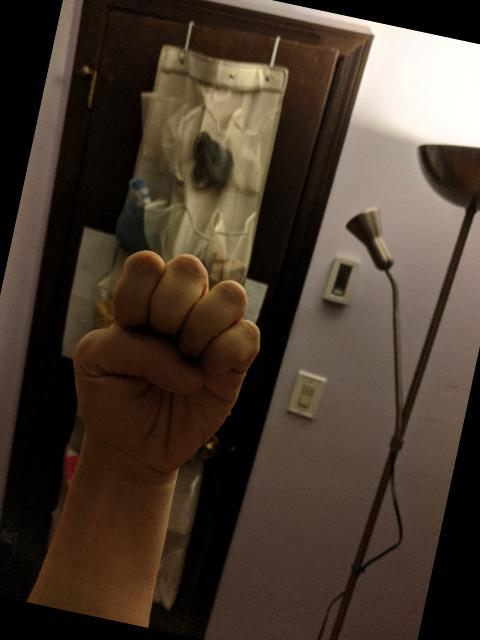E: (48, 232, 279, 492)
